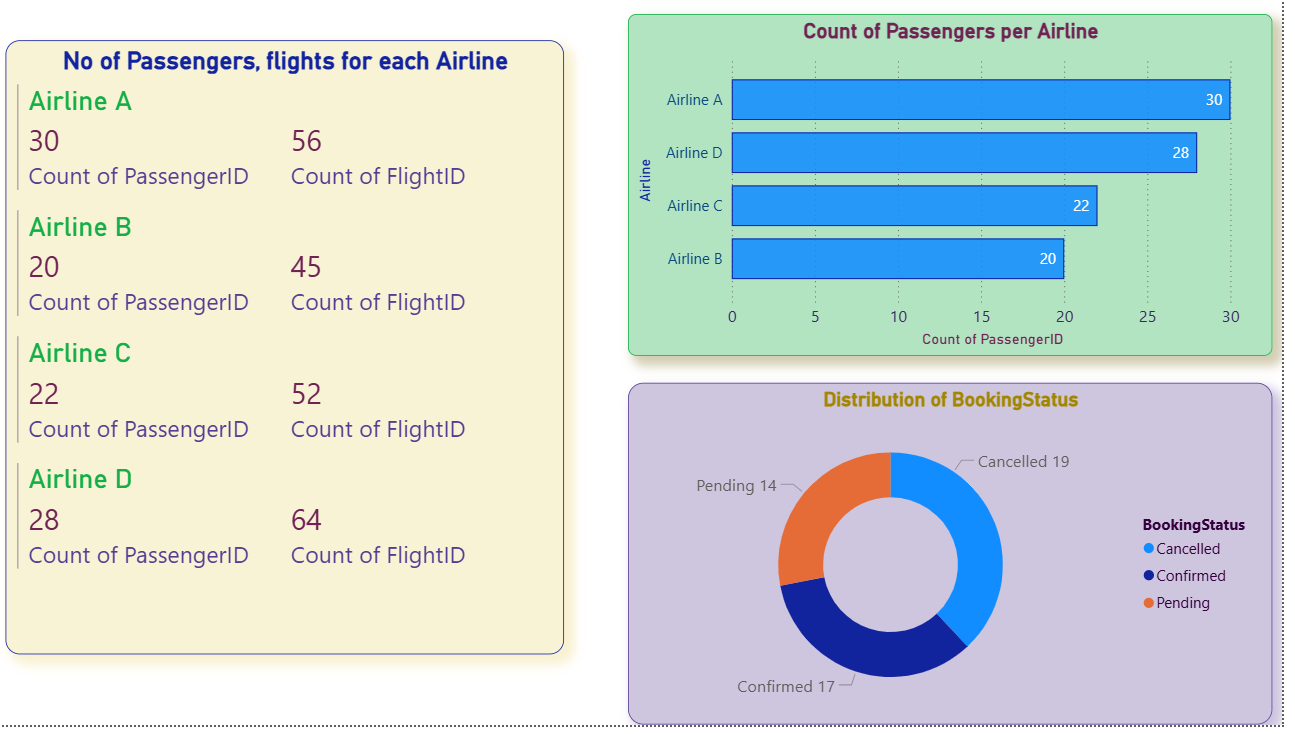

What the dashboard file says about the page in this screenshot:
{"tool":"powerbi","page":{"name":"Task_7","canvas":[1280,720],"ordinal":2},"visuals":[{"type":"multiRowCard","title":"No of Passengers, flights for each Airline","fields":{"Values":["Fight_Information - flight_information.Airline","CountNonNull(Passenger_Information - passenger_information.PassengerID)","Fight_Information - flight_information.FlightID"]},"box":[31.8,50.1,546.6,600.4],"z":0},{"type":"barChart","title":"Count of Passengers per Airline","fields":{"Y":["CountNonNull(Passenger_Information - passenger_information.PassengerID)"],"Category":["Fight_Information - flight_information.Airline"]},"box":[640.6,24.5,630.5,334.7],"z":1000},{"type":"donutChart","title":"Distribution of BookingStatus","fields":{"Category":["Ticket_Information - ticket_information.BookingStatus"],"Y":["CountNonNull(Ticket_Information - ticket_information.TicketID)"]},"box":[640.6,385.2,630.5,334.7],"z":2000}]}

Visuals, with their boxes in screenshot pixels (x1, y1, x2, y2), scaled from the page's 1280x720 canvas onto the 1295x734 screenshot:
"No of Passengers, flights for each Airline" multiRowCard: Rect(32, 51, 585, 663)
"Count of Passengers per Airline" barChart: Rect(648, 25, 1286, 366)
"Distribution of BookingStatus" donutChart: Rect(648, 393, 1286, 733)
